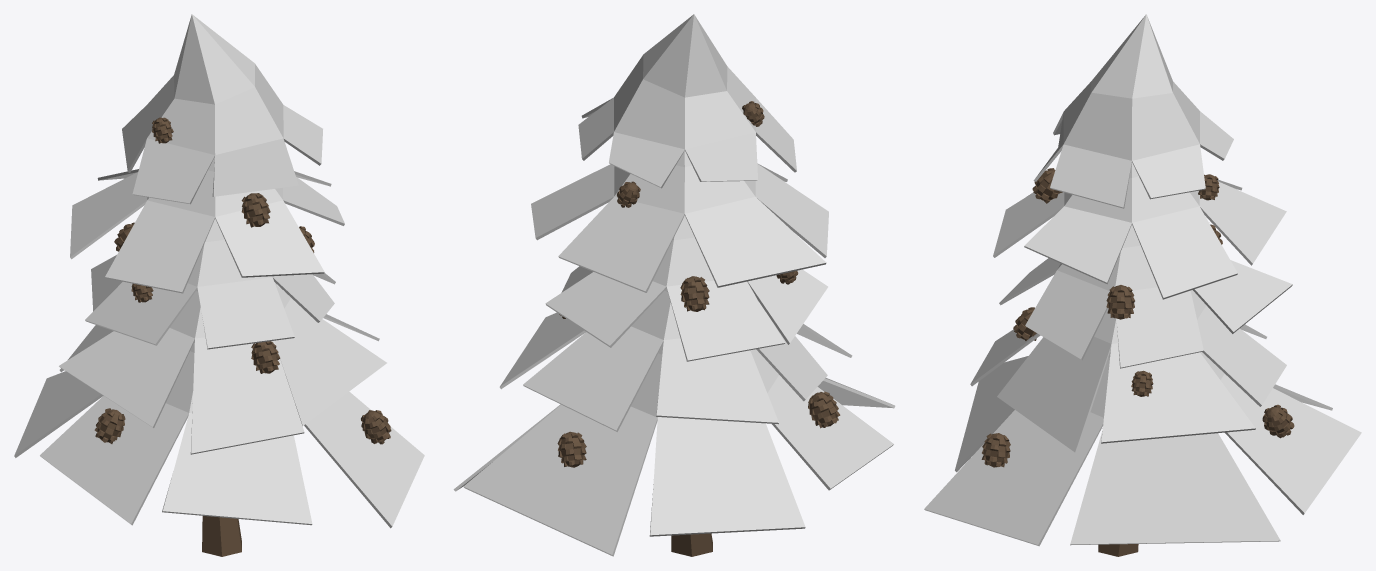
Rendered from Arbol Exterior 3.fbx.
3 renders of one model, left to right at view 1: azimuth 30°, elevation 25°; view 2: azimuth 150°, elevation 25°; view 3: azimuth 270°, elevation 25°, orthographic. The views are drawn at different scales.
Parts seen in each view (by area): view 1: Hojas_5, Hojas_4, hojas_1, Hojas_2, Hojas_3, Tronco_Dif_1, pSphere33, pSphere29, pSphere32, pSphere24; view 2: Hojas_5, Hojas_2, Hojas_4, hojas_1, Hojas_3, pSphere33, Tronco_Dif_1, pSphere31, pSphere27; view 3: Hojas_5, Hojas_4, hojas_1, Hojas_2, Hojas_3, pSphere26, pSphere32, pSphere31, pSphere29.
Boxes of the visible parts, x1,y1,x2,y2 form: Hojas_5: (14, 341, 424, 528); Hojas_4: (59, 283, 386, 454); hojas_1: (122, 14, 322, 204); Hojas_2: (70, 157, 344, 293); Hojas_3: (85, 218, 335, 349); Tronco_Dif_1: (202, 516, 241, 556); pSphere33: (94, 408, 125, 443); pSphere29: (241, 193, 270, 227); pSphere32: (361, 410, 391, 444); pSphere24: (251, 341, 280, 373); Hojas_5: (453, 343, 895, 556); Hojas_2: (531, 150, 828, 292); Hojas_4: (499, 288, 852, 431); hojas_1: (578, 14, 796, 188); Hojas_3: (545, 215, 827, 361); pSphere33: (808, 391, 840, 428); Tronco_Dif_1: (671, 533, 712, 556); pSphere31: (557, 431, 586, 467); pSphere27: (680, 276, 709, 311); Hojas_5: (924, 350, 1361, 546); Hojas_4: (970, 290, 1286, 453); hojas_1: (1033, 14, 1233, 208); Hojas_2: (993, 162, 1286, 299); Hojas_3: (999, 225, 1292, 368); pSphere26: (1106, 285, 1134, 319); pSphere32: (981, 433, 1010, 467); pSphere31: (1262, 404, 1294, 438); pSphere29: (1032, 168, 1062, 203).
Size of the model in its own units: 5.04 by 7.9 by 5.97.
